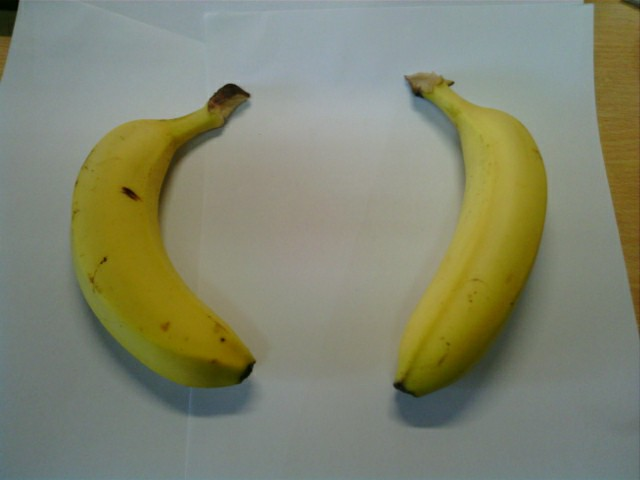fresh_banana: (400, 73, 549, 397)
normal_banana: (70, 91, 256, 387)
